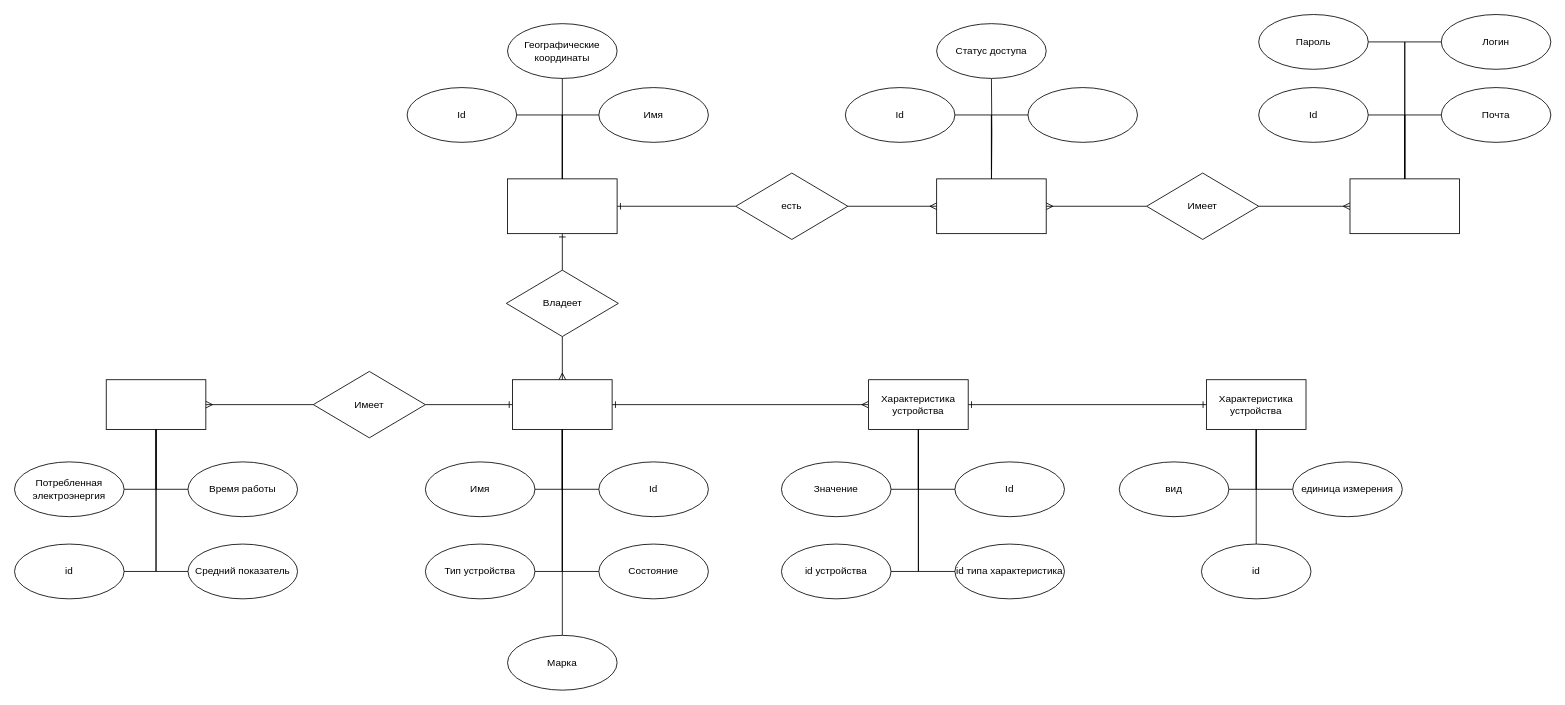
Image size: 1565x705. Some labels were removed from this diagram. Here are the shapes that lost their labels. From the top down, the centre of each, then its label:
pixel 1082 114: Уровень доступа
pixel 562 206: Дом
pixel 991 206: Привилегии доступа
pixel 1404 206: Пользователь
pixel 155 404: История работы устройства
pixel 562 404: Устройство
